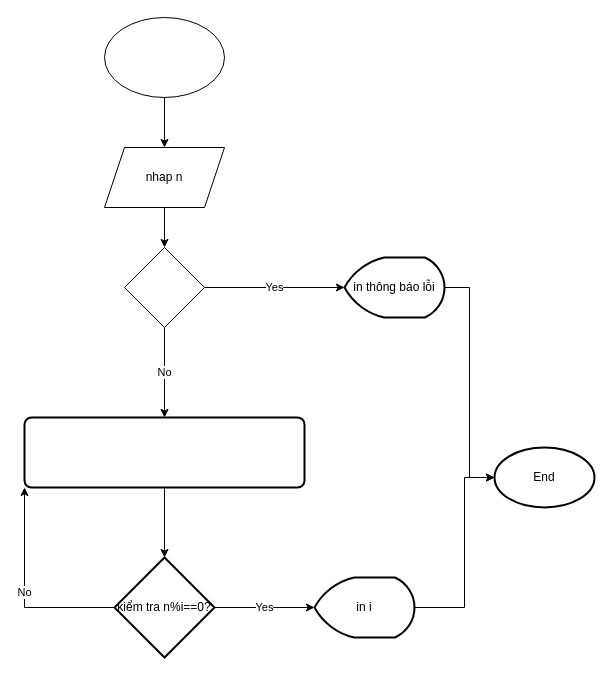
The diagram is 613 pixels wide and 676 high, and some of its shapes have lost their labels. Each missing label, with the centre of its shape:
"bắt đầu vòng lặp i từ 1 đến n" goes at point 164,452.
"n < 0" goes at point 164,287.
"Start" goes at point 164,57.
